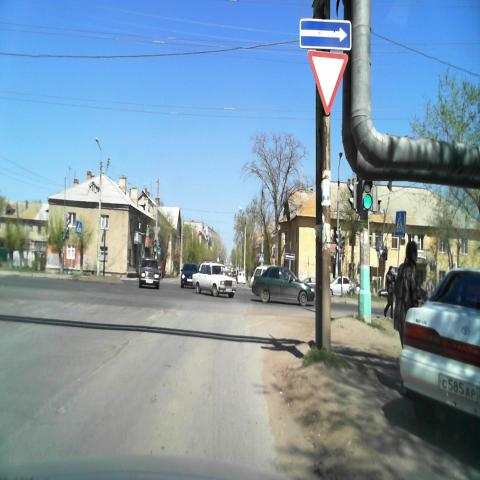5_7_1: (300, 17, 352, 50)
